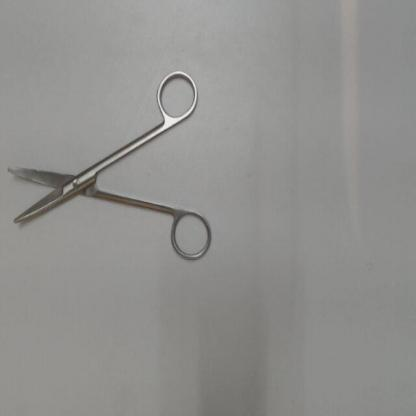Curved Mayo Scissors: (4, 62, 217, 269)
